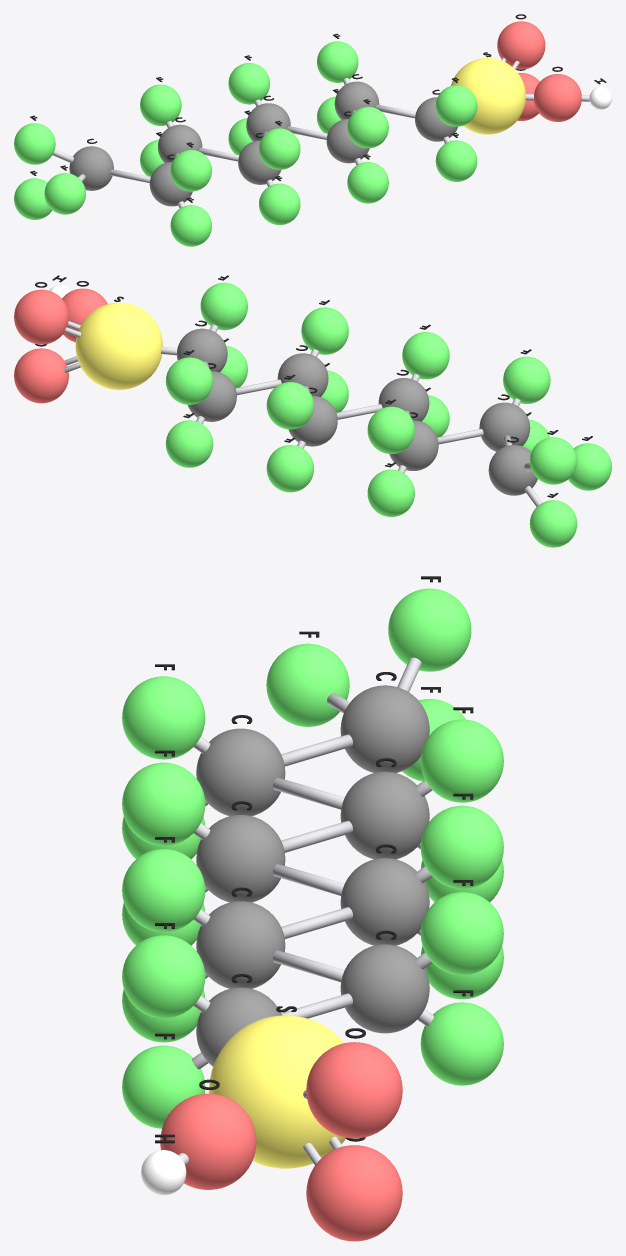
File: PFOS.glb
The picture shows the model from 3 angles, top to bottom: view 1: azimuth 30°, elevation 25°; view 2: azimuth 150°, elevation 25°; view 3: azimuth 270°, elevation 25°; orthographic projection. The views are drawn at different scales.
Parts seen in each view (by area): view 1: Atom_25_S, Atom_28_O, Atom_26_O, Atom_00_C, Atom_23_F, Atom_10_F, Atom_12_F, Atom_11_F, Atom_19_F, Atom_20_F, Atom_08_F, Atom_15_F (+18 smaller); view 2: Atom_25_S, Atom_26_O, Atom_27_O, Atom_00_C, Atom_01_C, Atom_08_F, Atom_21_F, Atom_09_F, Atom_22_F, Atom_13_F, Atom_17_F, Atom_18_F (+17 smaller); view 3: Atom_25_S, Atom_26_O, Atom_27_O, Atom_28_O, Atom_06_C, Atom_00_C, Atom_05_C, Atom_02_C, Atom_04_C, Atom_01_C, Atom_03_C, Atom_23_F (+24 smaller).
Part boxes in pixels (x1=…): Atom_25_S: x1=450, y1=58, x2=525, y2=134; Atom_28_O: x1=534, y1=74, x2=581, y2=121; Atom_26_O: x1=497, y1=21, x2=545, y2=69; Atom_00_C: x1=69, y1=146, x2=113, y2=190; Atom_23_F: x1=435, y1=85, x2=477, y2=126; Atom_10_F: x1=44, y1=173, x2=85, y2=214; Atom_12_F: x1=170, y1=205, x2=211, y2=246; Atom_11_F: x1=170, y1=150, x2=211, y2=191; Atom_19_F: x1=347, y1=106, x2=388, y2=148; Atom_20_F: x1=347, y1=162, x2=388, y2=203; Atom_08_F: x1=14, y1=123, x2=55, y2=164; Atom_15_F: x1=259, y1=128, x2=300, y2=169; Atom_25_S: x1=75, y1=302, x2=162, y2=389; Atom_26_O: x1=14, y1=289, x2=68, y2=344; Atom_27_O: x1=14, y1=348, x2=68, y2=403; Atom_00_C: x1=488, y1=445, x2=537, y2=495; Atom_01_C: x1=479, y1=402, x2=530, y2=451; Atom_08_F: x1=529, y1=437, x2=577, y2=484; Atom_21_F: x1=165, y1=357, x2=213, y2=404; Atom_09_F: x1=529, y1=500, x2=577, y2=547; Atom_22_F: x1=165, y1=420, x2=213, y2=467; Atom_13_F: x1=367, y1=406, x2=414, y2=453; Atom_17_F: x1=266, y1=382, x2=313, y2=429; Atom_18_F: x1=266, y1=445, x2=313, y2=492; Atom_25_S: x1=208, y1=1015, x2=345, y2=1168; Atom_26_O: x1=306, y1=1042, x2=402, y2=1138; Atom_27_O: x1=306, y1=1145, x2=402, y2=1241; Atom_28_O: x1=160, y1=1093, x2=256, y2=1189; Atom_06_C: x1=340, y1=944, x2=429, y2=1033; Atom_00_C: x1=340, y1=685, x2=429, y2=772; Atom_05_C: x1=196, y1=901, x2=285, y2=988; Atom_02_C: x1=340, y1=771, x2=429, y2=859; Atom_04_C: x1=340, y1=858, x2=429, y2=945; Atom_01_C: x1=196, y1=728, x2=285, y2=816; Atom_03_C: x1=196, y1=815, x2=285, y2=902; Atom_23_F: x1=122, y1=935, x2=205, y2=1018.
Size of the model in its own units: 15 by 2.78 by 4.7.
